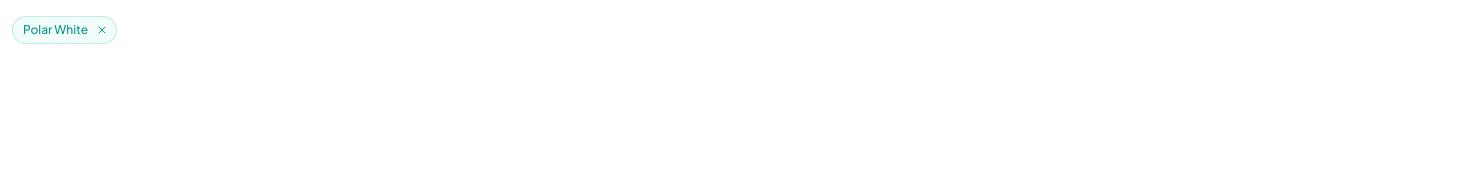
Test: ColourPicker › clears the chip to choose again
Click the button named "Change colour from Polar White".
click(102, 30)  # box x1=92 y1=20 x2=112 y2=40
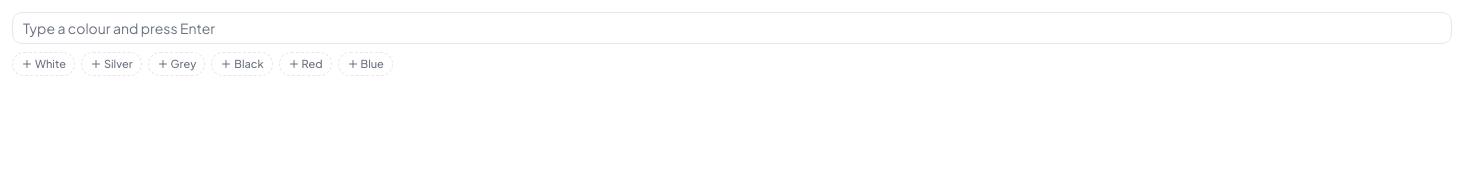
Expected: the button "White" is shown, x1=12 y1=52 x2=75 y2=76
Expected: the field is empty, x1=12 y1=12 x2=1452 y2=44
